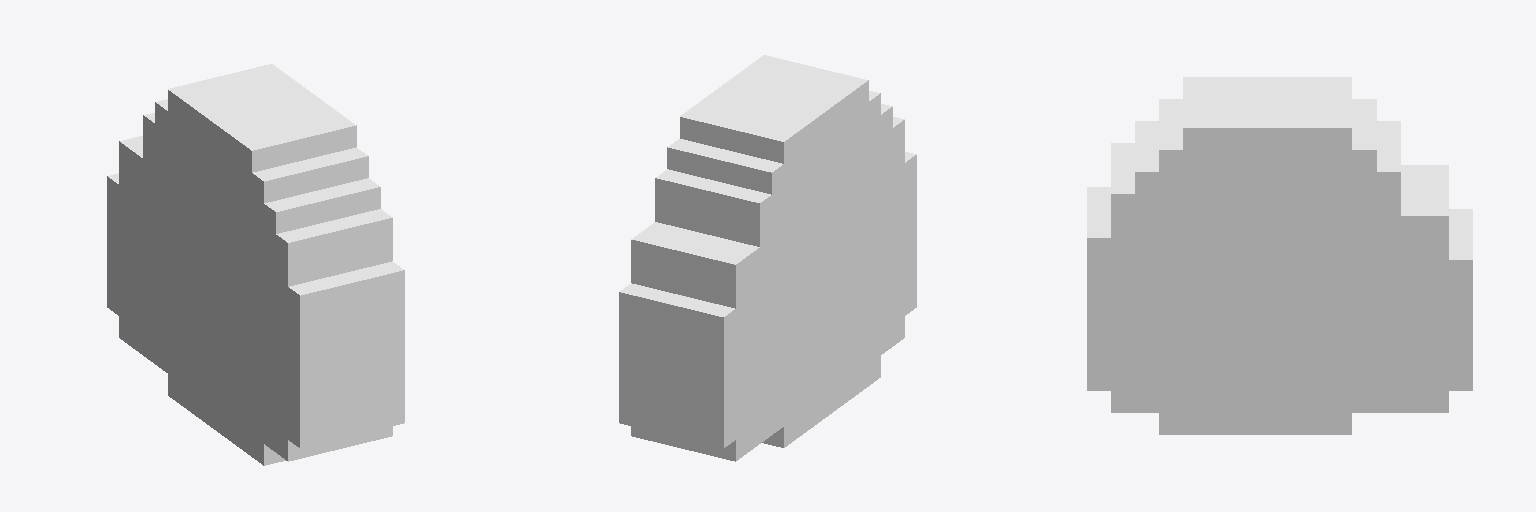
The model's file is bush-0-bush.obj.
3 renders of one model, left to right at view 1: azimuth 30°, elevation 25°; view 2: azimuth 150°, elevation 25°; view 3: azimuth 270°, elevation 25°, orthographic.
Visible parts, largest first — view 1: bush; view 2: bush; view 3: bush.
Boxes of the visible parts, x1=… form: bush: x1=107, y1=64, x2=404, y2=465; bush: x1=619, y1=55, x2=916, y2=461; bush: x1=1087, y1=77, x2=1472, y2=434.
Bounding box in the file's own units: 0.5 × 1.4 × 1.6.